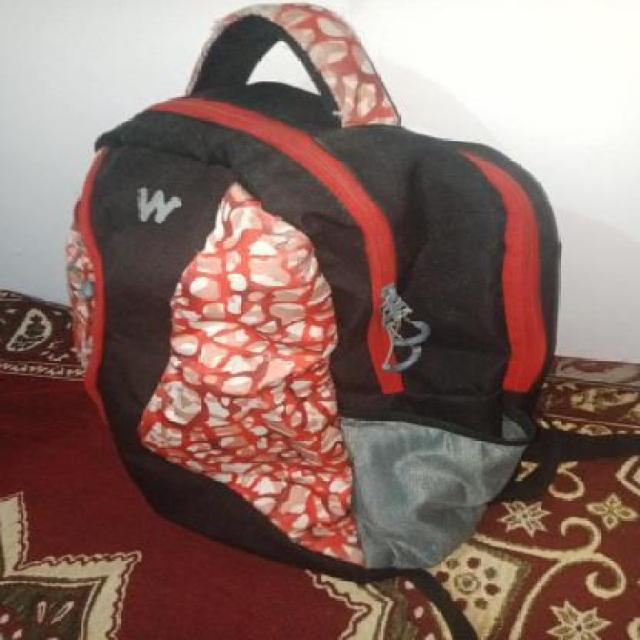backpack: (61, 0, 567, 592)
